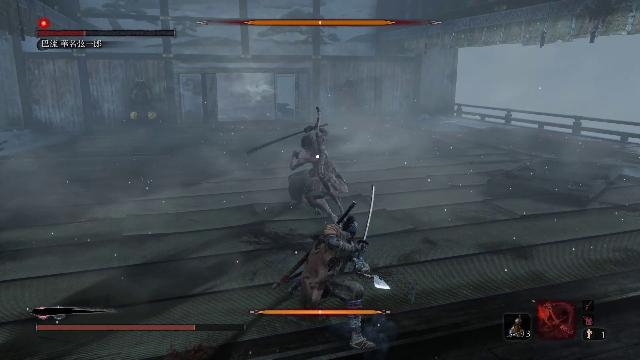sk: (298, 216, 383, 352)
